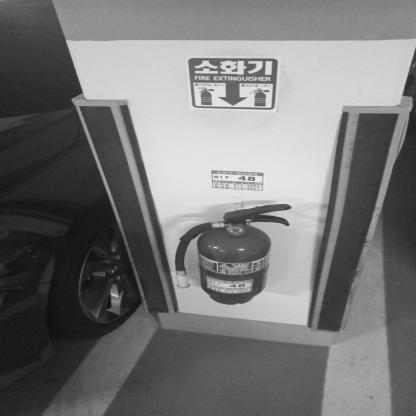FE: (172, 203, 291, 305)
